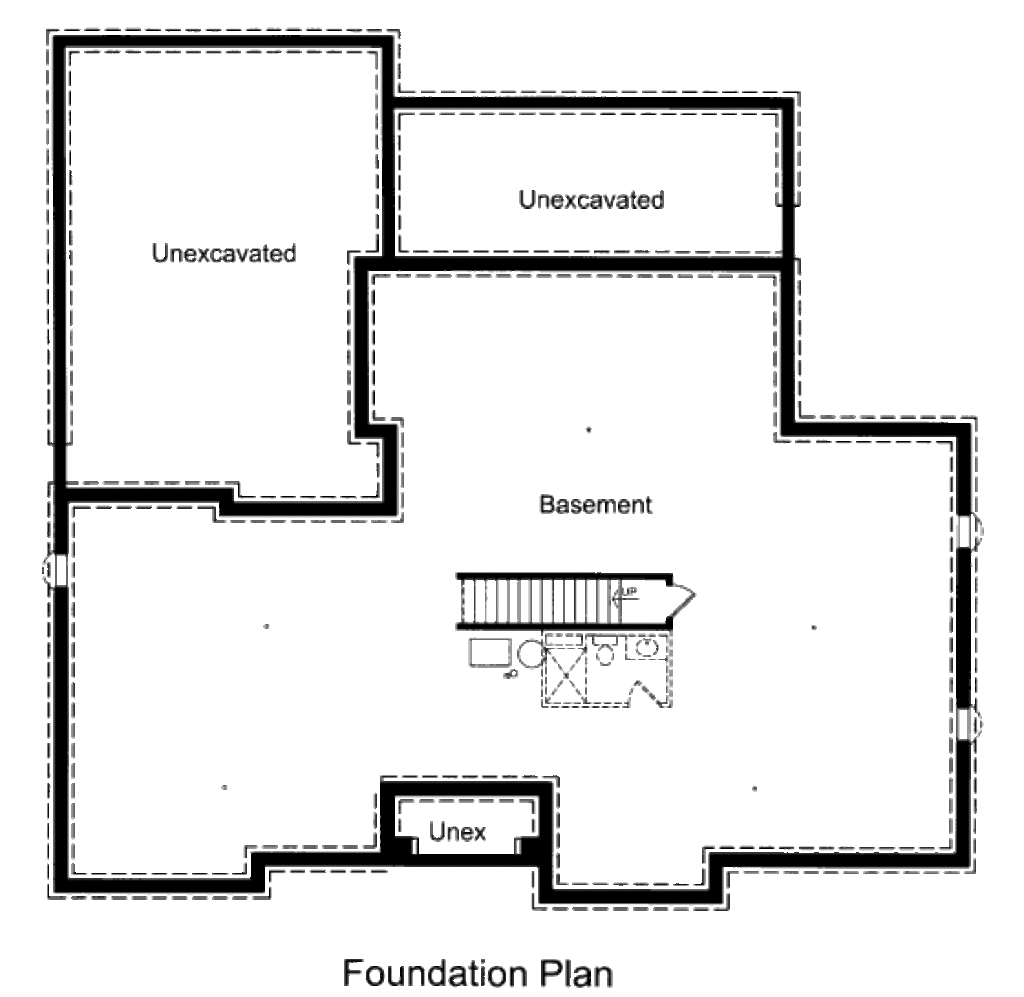door: (666, 581, 699, 622), (628, 678, 660, 708)
large_sink: (594, 634, 623, 672)
stairs: (446, 572, 652, 628)
